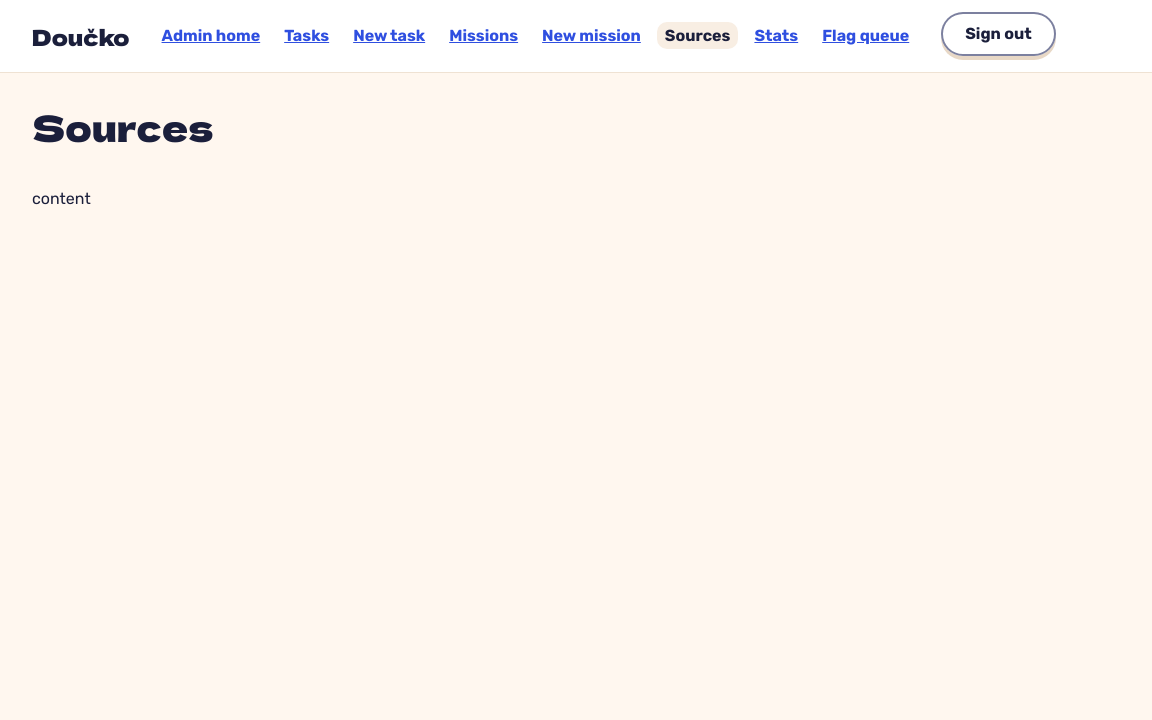
Test: admin layout › signs out from any admin screen
Click the button "Sign out" at (999, 34), box 941,12 -> 1056,56
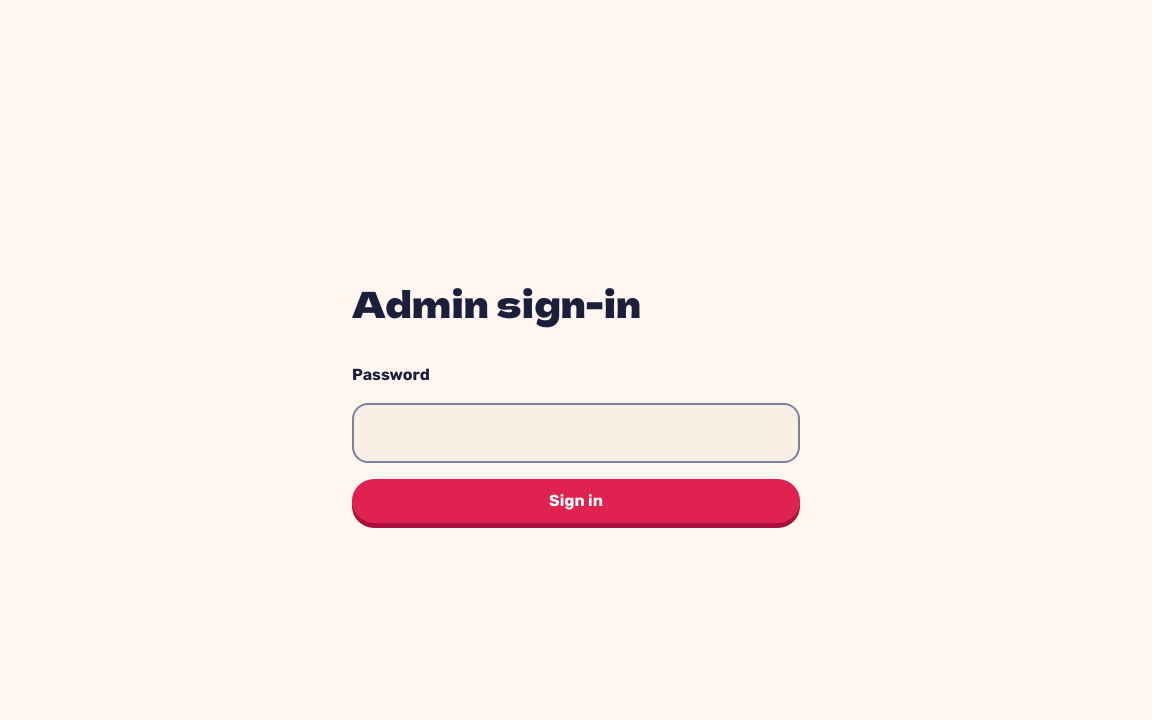
Expected: the heading "Admin sign-in" is shown, 352,276 -> 641,328
